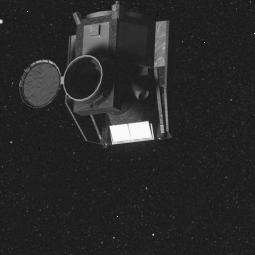cheops: (27, 5, 180, 144)
